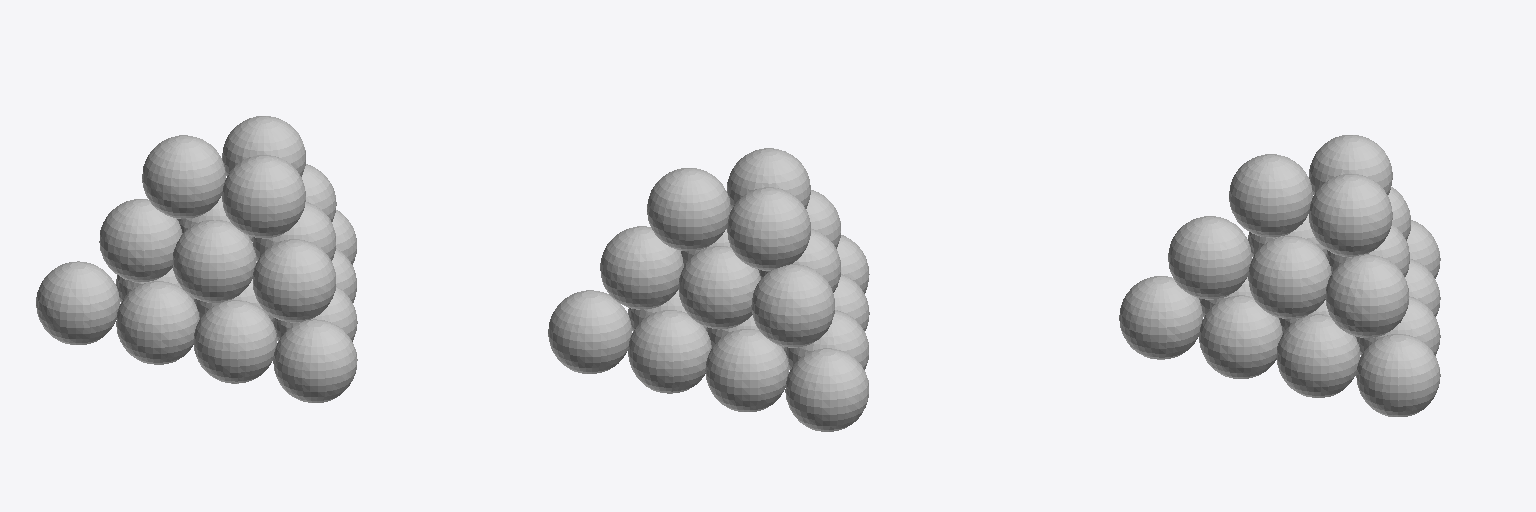
The model's file is estructura cubica compacta.obj.
The picture shows the model from 3 angles: view 1: azimuth 30°, elevation 25°; view 2: azimuth 150°, elevation 25°; view 3: azimuth 270°, elevation 25°; orthographic projection.
Parts seen in each view (by area): view 1: Sphere.423_Sphere.439, Sphere.429_Sphere.446, Sphere.436_Sphere.461, Sphere.424_Sphere.440, Sphere.437_Sphere.462, Sphere.432_Sphere.450, Sphere.425_Sphere.441, Sphere.433_Sphere.451, Sphere.434_Sphere.452, Sphere.426_Sphere.459, Sphere.430_Sphere.448, Sphere.420_Sphere.436 (+4 smaller); view 2: Sphere.429_Sphere.446, Sphere.419_Sphere.443, Sphere.437_Sphere.462, Sphere.434_Sphere.452, Sphere.426_Sphere.459, Sphere.428_Sphere.445, Sphere.427_Sphere.444, Sphere.431_Sphere.449, Sphere.440_Sphere.458, Sphere.436_Sphere.461, Sphere.425_Sphere.441, Sphere.433_Sphere.451 (+4 smaller); view 3: Sphere.419_Sphere.443, Sphere.431_Sphere.449, Sphere.432_Sphere.450, Sphere.436_Sphere.461, Sphere.426_Sphere.459, Sphere.430_Sphere.448, Sphere.423_Sphere.439, Sphere.421_Sphere.437, Sphere.420_Sphere.436, Sphere.437_Sphere.462, Sphere.427_Sphere.444, Sphere.440_Sphere.458 (+4 smaller).
Part boxes in pixels (x1,y1,x2,y2): Sphere.423_Sphere.439: (273,319,357,402); Sphere.429_Sphere.446: (36,261,119,344); Sphere.436_Sphere.461: (222,155,305,238); Sphere.424_Sphere.440: (193,300,276,383); Sphere.437_Sphere.462: (142,135,225,218); Sphere.432_Sphere.450: (253,239,335,322); Sphere.425_Sphere.441: (116,281,199,364); Sphere.433_Sphere.451: (173,220,256,302); Sphere.434_Sphere.452: (99,199,182,281); Sphere.426_Sphere.459: (222,116,305,176); Sphere.430_Sphere.448: (253,202,335,261); Sphere.420_Sphere.436: (273,286,357,341); Sphere.429_Sphere.446: (785,348,868,431); Sphere.419_Sphere.443: (548,290,631,373); Sphere.437_Sphere.462: (727,187,810,270); Sphere.434_Sphere.452: (751,264,834,347); Sphere.426_Sphere.459: (647,168,730,250); Sphere.428_Sphere.445: (705,329,789,411); Sphere.427_Sphere.444: (628,310,711,393); Sphere.431_Sphere.449: (600,226,683,309); Sphere.440_Sphere.458: (678,246,760,329); Sphere.436_Sphere.461: (727,148,810,208); Sphere.425_Sphere.441: (785,310,868,369); Sphere.433_Sphere.451: (758,229,840,292); Sphere.419_Sphere.443: (1356,334,1440,416); Sphere.431_Sphere.449: (1325,254,1408,337); Sphere.432_Sphere.450: (1168,216,1251,299); Sphere.436_Sphere.461: (1229,154,1312,237); Sphere.426_Sphere.459: (1309,174,1392,256); Sphere.430_Sphere.448: (1248,236,1331,318); Sphere.423_Sphere.439: (1119,276,1202,359); Sphere.421_Sphere.437: (1277,314,1360,397); Sphere.420_Sphere.436: (1199,295,1282,378); Sphere.437_Sphere.462: (1309,135,1392,194); Sphere.427_Sphere.444: (1356,296,1440,355); Sphere.440_Sphere.458: (1326,224,1409,276).
Size of the model in its own units: 1.64 by 1.01 by 1.48.